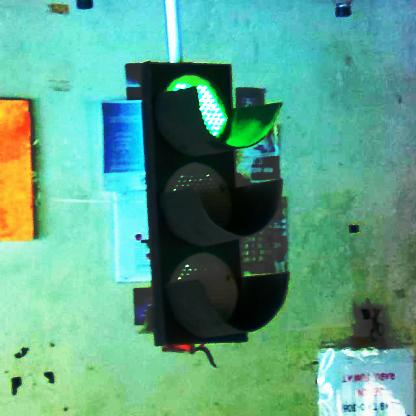Traffic Light -Green-: (141, 65, 284, 340)
